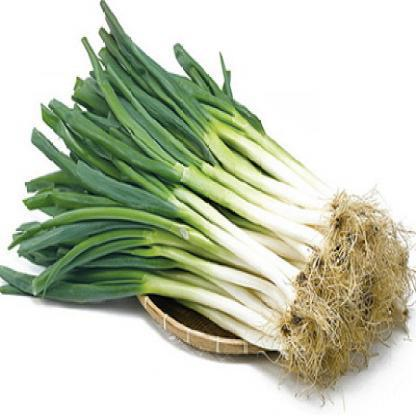green onion: (23, 50, 403, 391), (60, 54, 332, 254), (56, 166, 330, 310), (19, 241, 300, 357), (168, 61, 356, 200)
